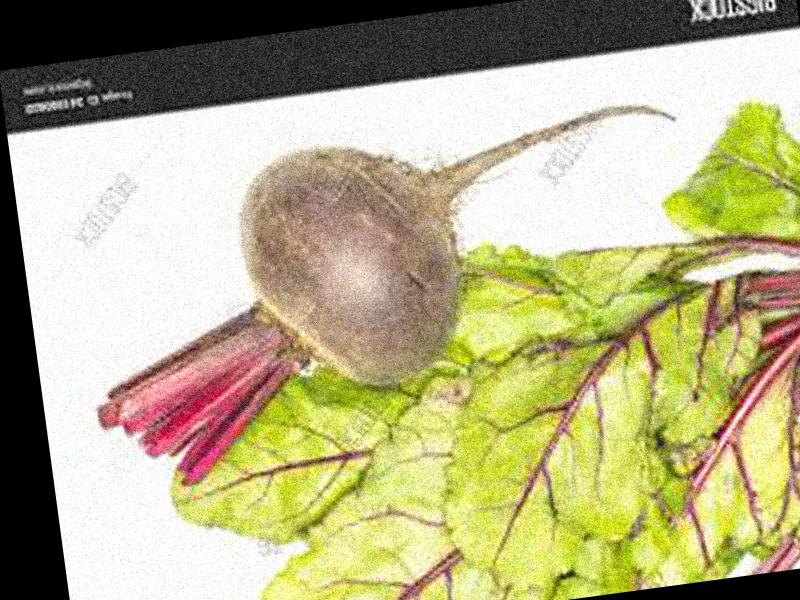Beet: (65, 98, 714, 495)
